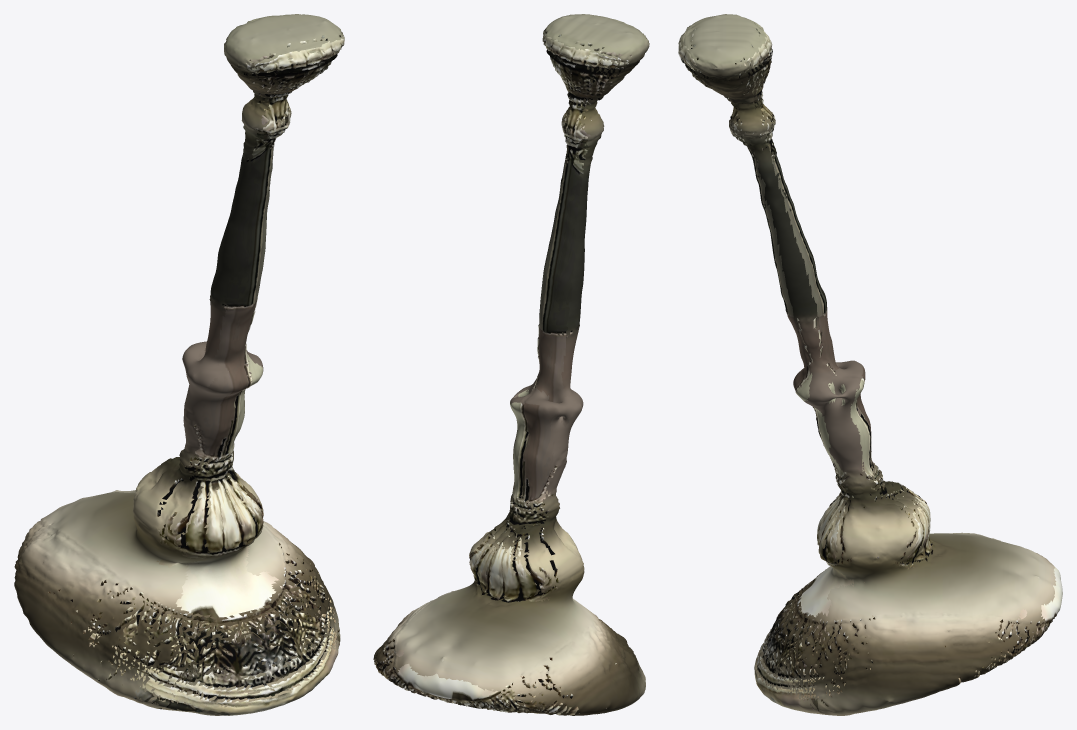
The model's file is kfl-2148.glb.
3 renders of one model, left to right at view 1: azimuth 30°, elevation 25°; view 2: azimuth 150°, elevation 25°; view 3: azimuth 270°, elevation 25°, orthographic. The views are drawn at different scales.
Visible parts, largest first — view 1: kfl-2148; view 2: kfl-2148; view 3: kfl-2148.
Boxes of the visible parts, x1=… form: kfl-2148: x1=14, y1=14, x2=344, y2=715; kfl-2148: x1=373, y1=14, x2=649, y2=715; kfl-2148: x1=678, y1=14, x2=1062, y2=715.
Size of the model in its own units: 0.4029 by 0.9967 by 0.5337.
Materials: 4 (4 with a texture image).
